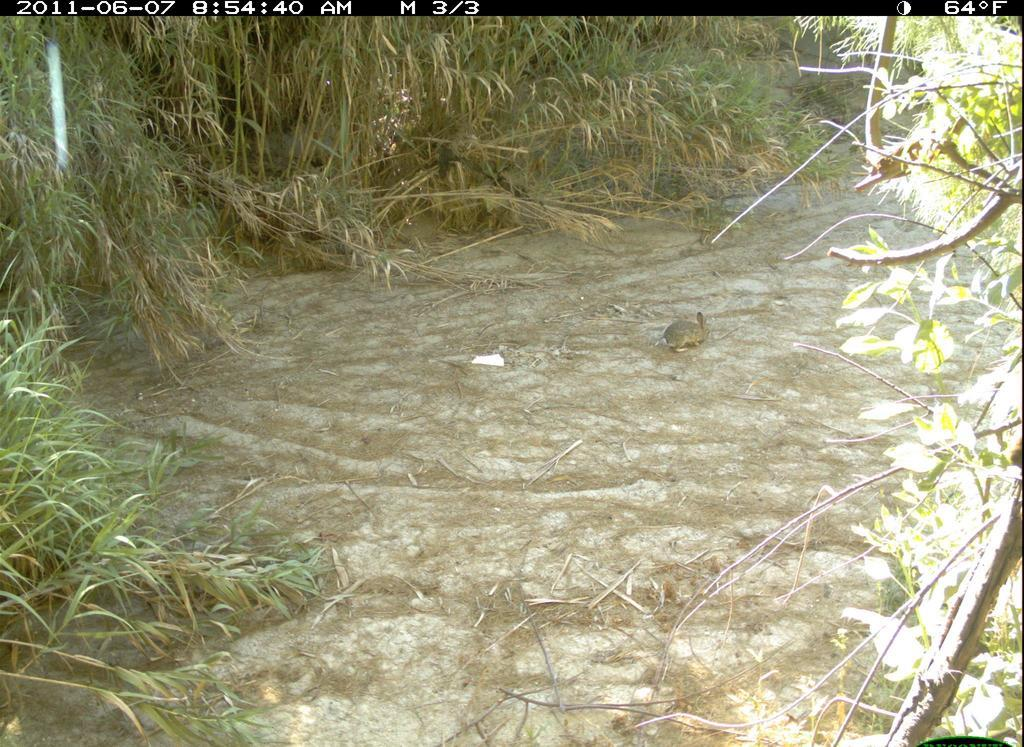rabbit: (661, 301, 716, 360)
